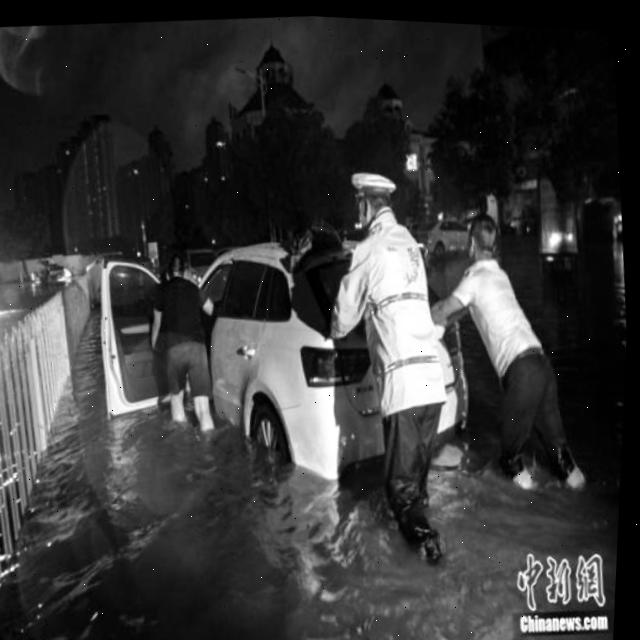civilian: (413, 203, 615, 520), (127, 249, 239, 455)
rescuer: (256, 146, 488, 584)
